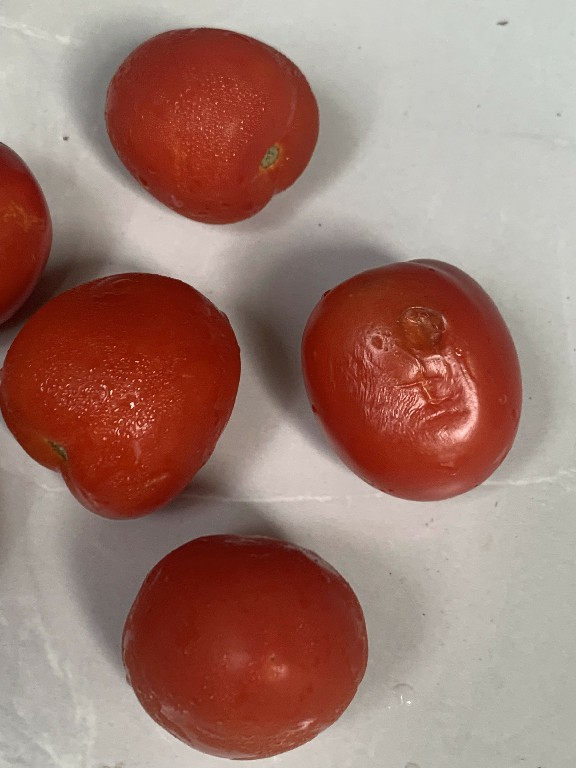NG: (301, 246, 534, 502)
OK: (0, 261, 253, 520), (115, 529, 376, 764), (99, 19, 321, 237)
